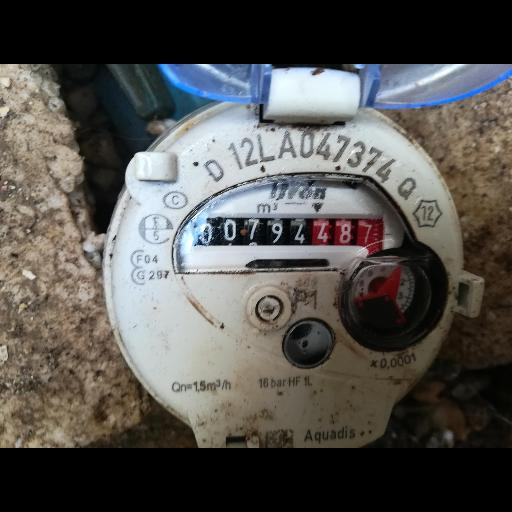0: (193, 217, 218, 245), (218, 217, 243, 245)
4: (291, 218, 313, 246), (313, 218, 335, 246)
7: (242, 217, 267, 245), (357, 218, 379, 246)
8: (335, 218, 357, 246)
9: (267, 217, 292, 245)
border_water_meter_number: (194, 212, 385, 256)
